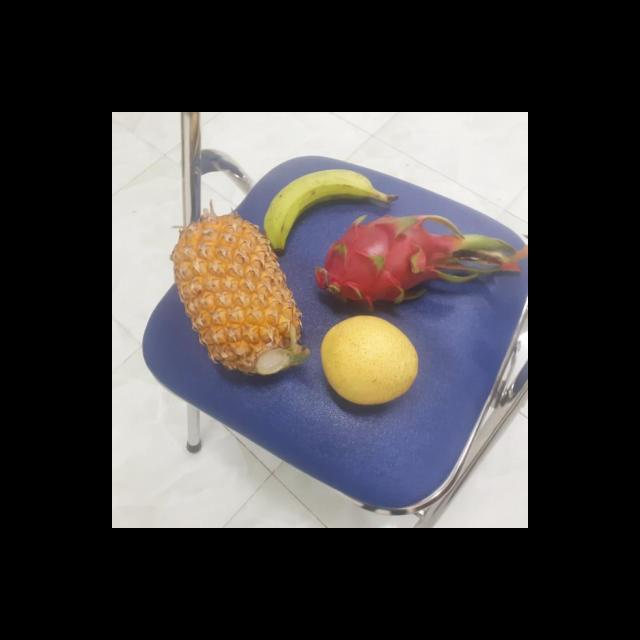banana: (263, 166, 382, 251)
pear: (318, 317, 420, 407)
pineapple: (169, 214, 305, 378)
pitaya: (306, 216, 458, 317)
